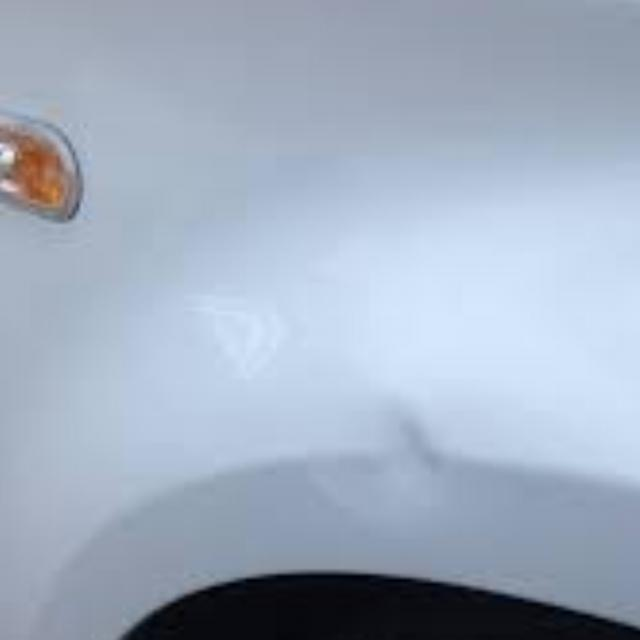dents: (297, 362, 474, 533)
